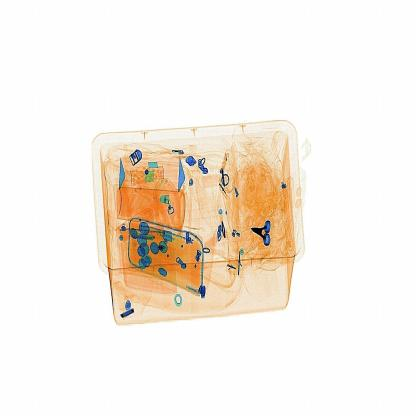gun: (248, 213, 279, 251)
